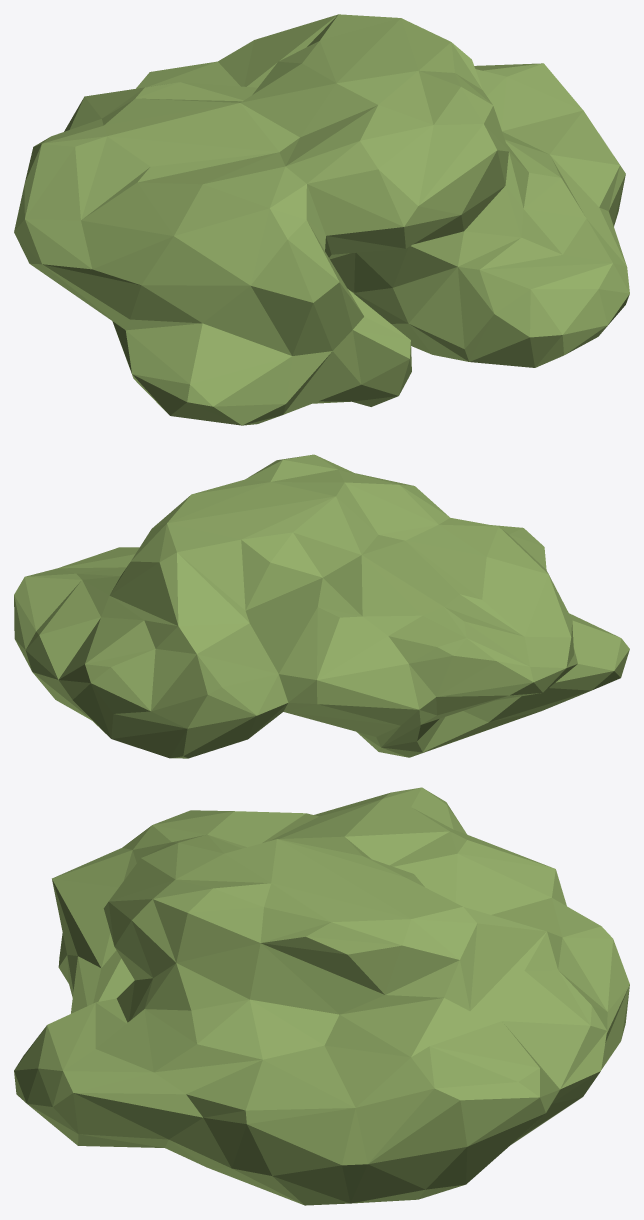
File: TREE1_leaves.fbx
The picture shows the model from 3 angles, top to bottom: view 1: azimuth 30°, elevation 25°; view 2: azimuth 150°, elevation 25°; view 3: azimuth 270°, elevation 25°; orthographic projection. The views are drawn at different scales.
Parts seen in each view (by area): view 1: polySurface3; view 2: polySurface3; view 3: polySurface3.
Part boxes in pixels (box(x1,y1,x2,y2)): polySurface3: box(14, 14, 629, 425); polySurface3: box(14, 454, 629, 758); polySurface3: box(14, 787, 629, 1205).
Size of the model in its own units: 33.84 by 14.25 by 30.3.
